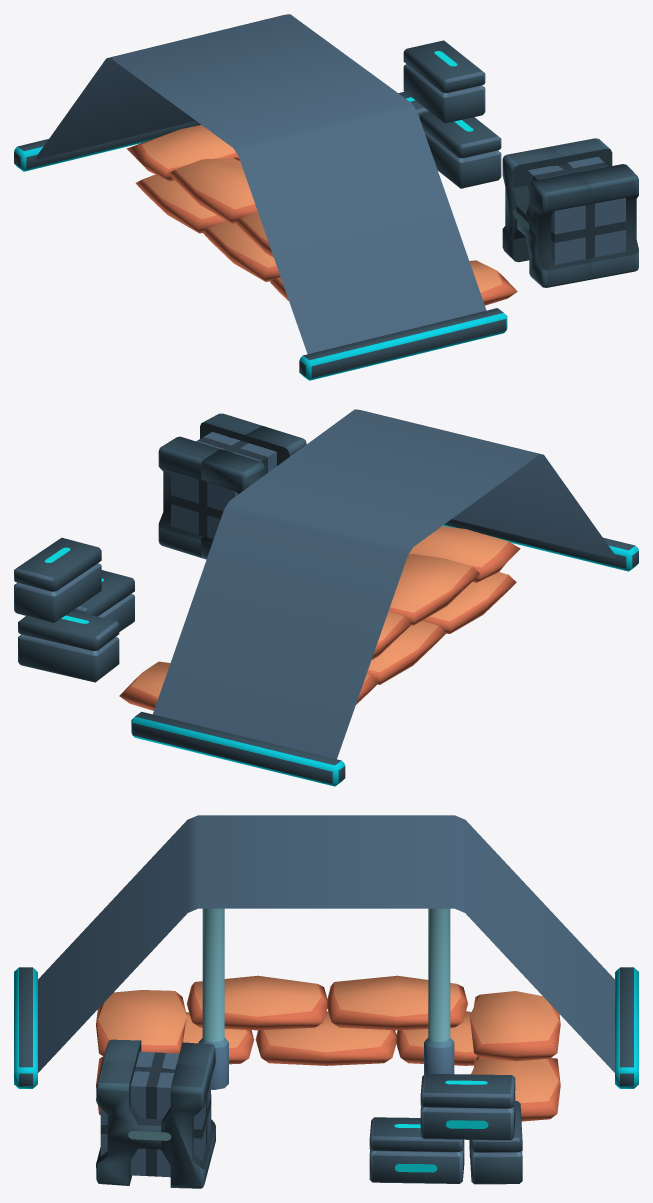
The model's file is Buildings_12.fbx.
The picture shows the model from 3 angles, top to bottom: view 1: azimuth 30°, elevation 25°; view 2: azimuth 150°, elevation 25°; view 3: azimuth 270°, elevation 25°; orthographic projection. The views are drawn at different scales.
Visible parts, largest first — view 1: Buildings; view 2: Buildings; view 3: Buildings.
Boxes of the visible parts, x1,y1,x2,y2 form: Buildings: [14, 14, 638, 380]; Buildings: [14, 409, 638, 786]; Buildings: [14, 815, 638, 1188].
Bounding box in the file's own units: 403 × 545 × 182.
